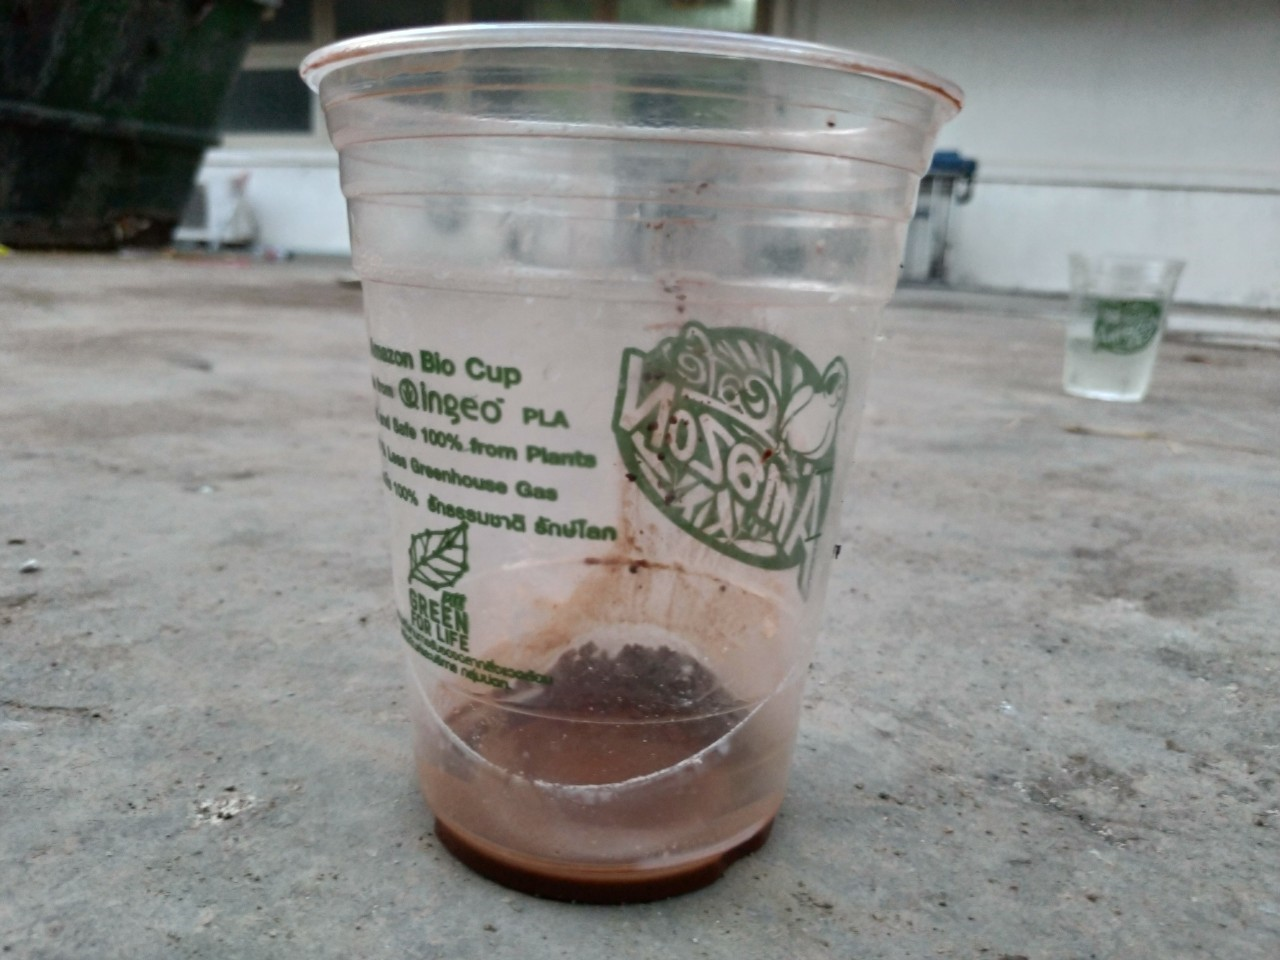PlasticCup: (287, 9, 971, 915), (1042, 236, 1186, 408)
